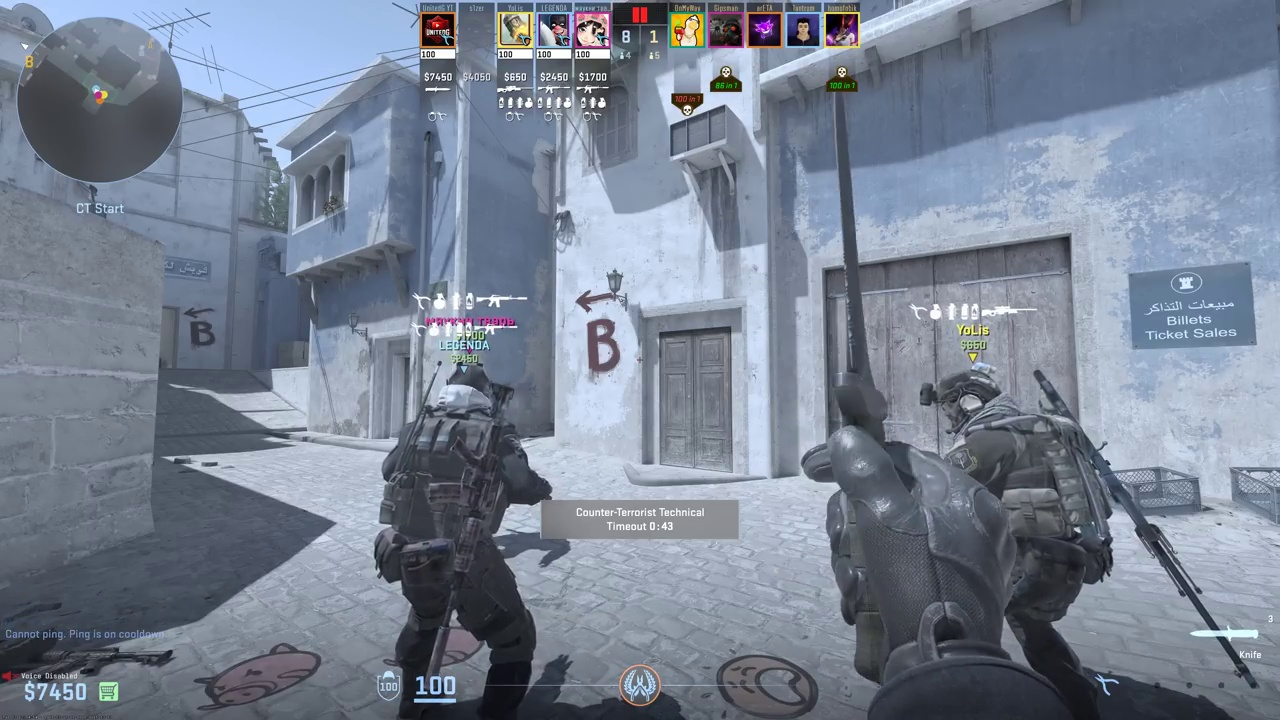CT: (930, 367, 1107, 667), (390, 368, 536, 720)
